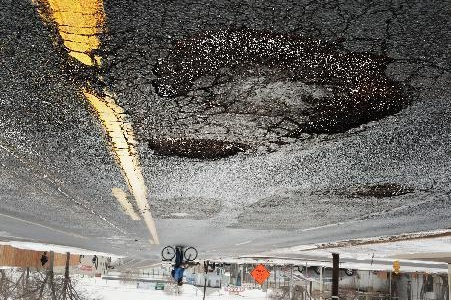pothole: (147, 26, 416, 142), (142, 137, 251, 163), (340, 181, 414, 200)
